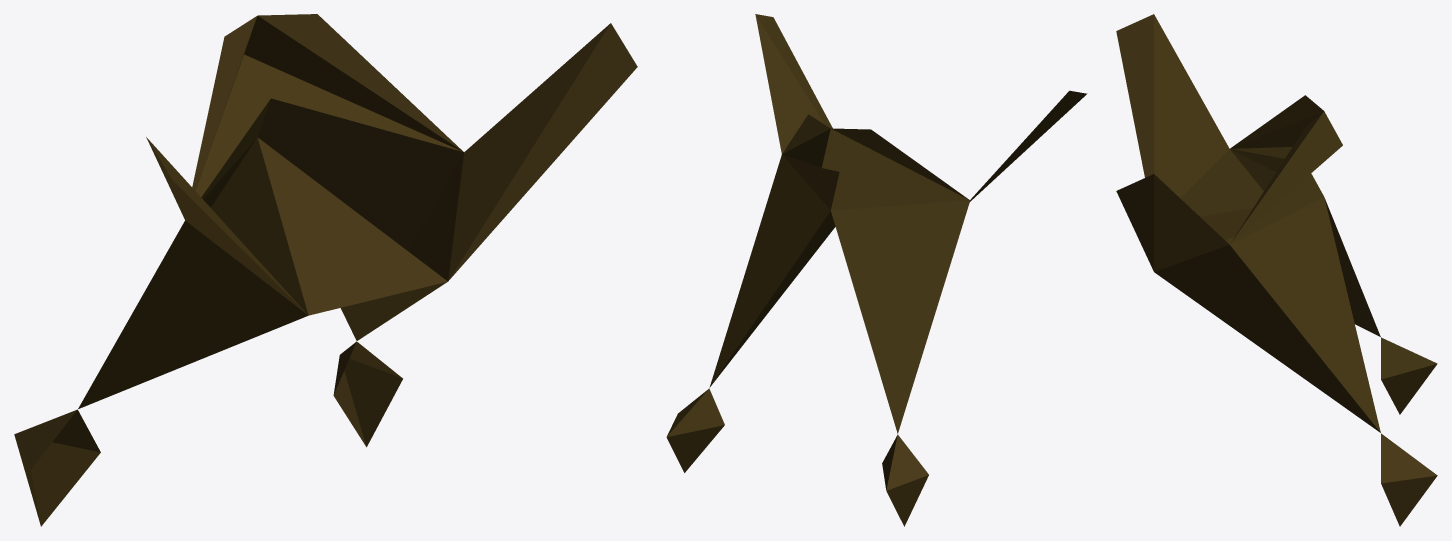
File: player_male_beard_17_0.obj
3 renders of one model, left to right at view 1: azimuth 30°, elevation 25°; view 2: azimuth 150°, elevation 25°; view 3: azimuth 270°, elevation 25°, orthographic. The views are drawn at different scales.
Size of the model in its own units: 0.1562 by 0.1719 by 0.1328.
